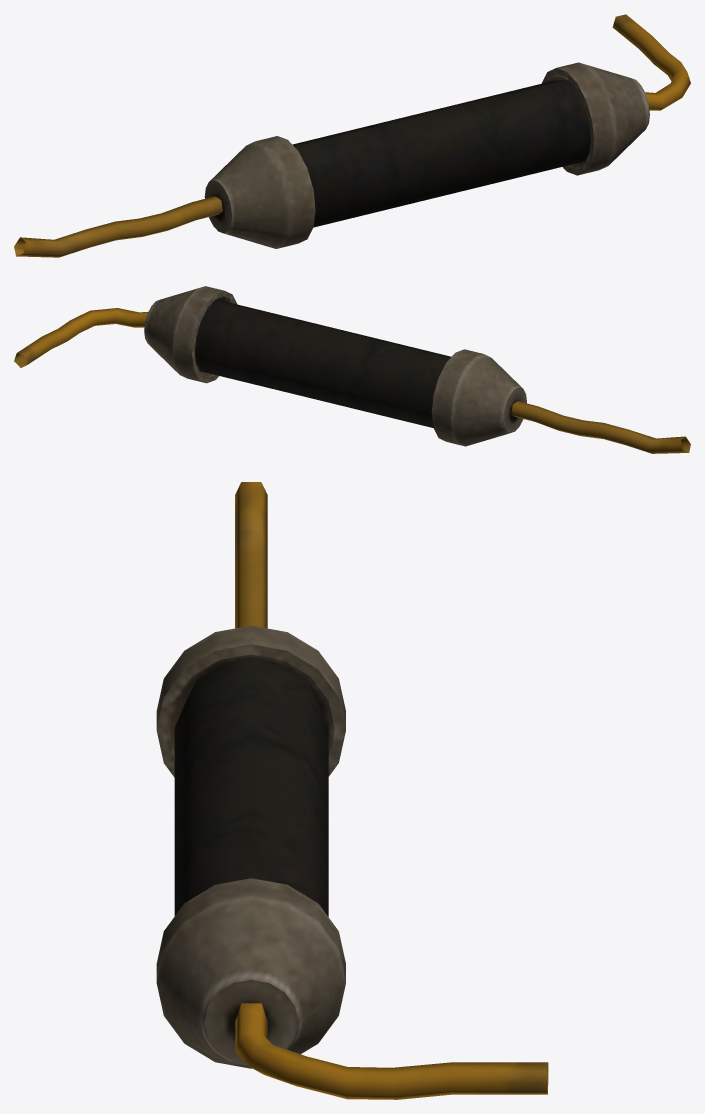
The model's file is substation_powerpanel_fuse_side.dae.
3 views of the same model, one above another, from view 1: azimuth 30°, elevation 25°; view 2: azimuth 150°, elevation 25°; view 3: azimuth 270°, elevation 25° (orthographic). The views are drawn at different scales.
Parts seen in each view (by area): view 1: polySurface500, polySurface499; view 2: polySurface500, polySurface499; view 3: polySurface499, polySurface500.
Boxes of the visible parts, x1,y1,x2,y2 form: polySurface500: (292, 80, 590, 227); polySurface499: (14, 14, 690, 257); polySurface500: (195, 301, 451, 427); polySurface499: (14, 286, 690, 453); polySurface499: (156, 482, 548, 1099); polySurface500: (174, 658, 328, 916).
Size of the model in its own units: 0.1609 by 0.022 by 0.0454.
Materials: 2 (2 with a texture image).
